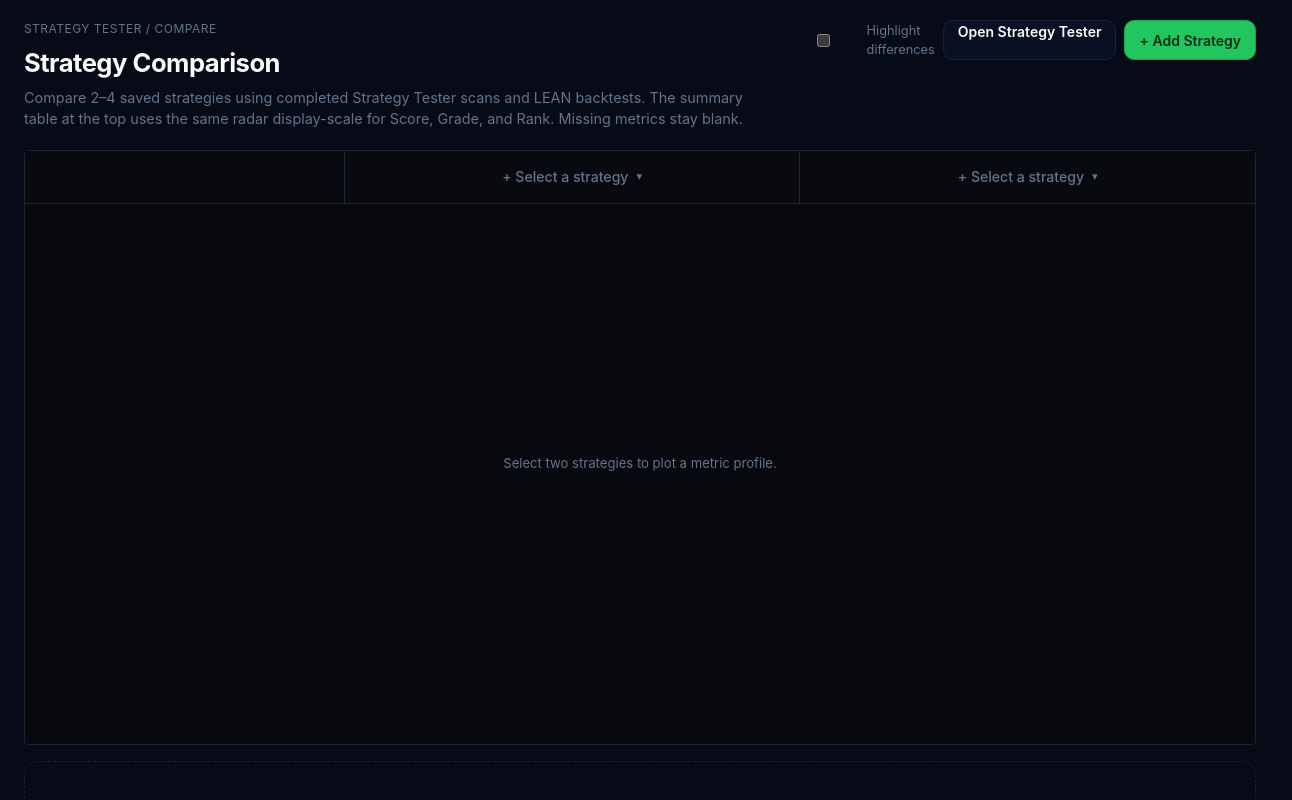
Test: StrategyComparisonPage › highlights differences without declaring a winner
The width and height of the screenshot is (1292, 800).
Click the button with test id "sc-select-cta-0". click: (572, 176)
box: [498, 164, 646, 189]
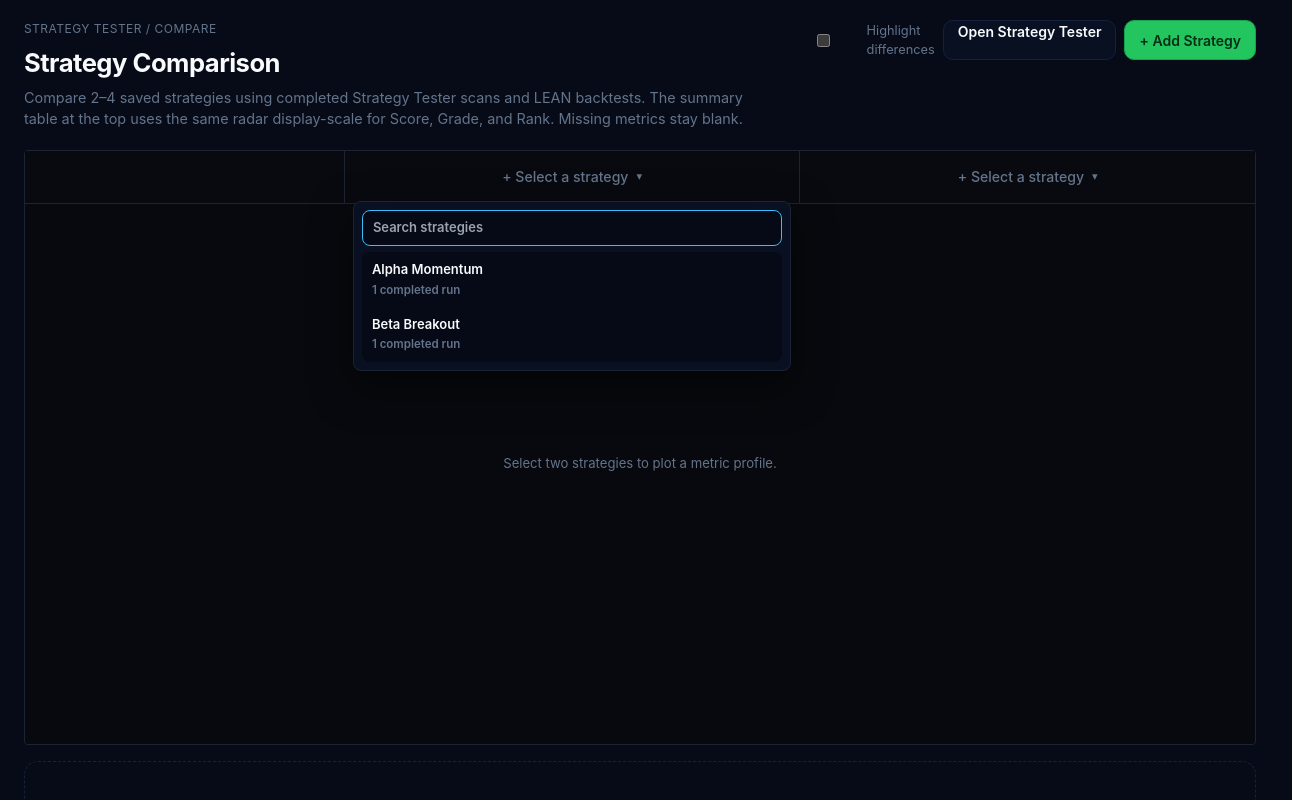
Click the button "Alpha Momentum 1 completed run". click: (427, 269)
box: [362, 252, 782, 307]
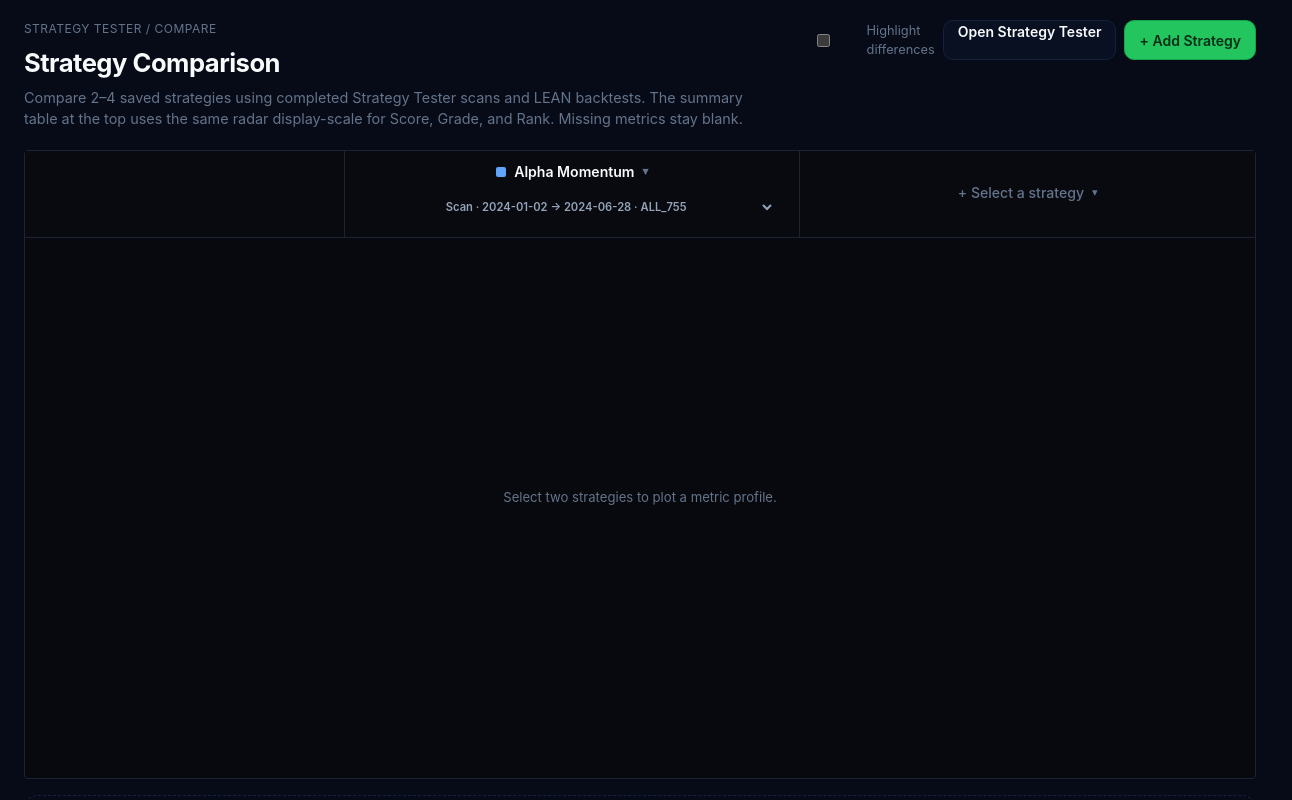
expect the dropdown with test id "sc-run-select-0" is shown: met
Select "Scan · 2024-01-02 → 2024-06-28 · ALL_755" in the dropdown with test id "sc-run-select-0". click: (572, 208)
box: [370, 188, 774, 227]
Click the button with test id "sc-select-cta-1". click: (1028, 193)
box: [954, 180, 1102, 205]
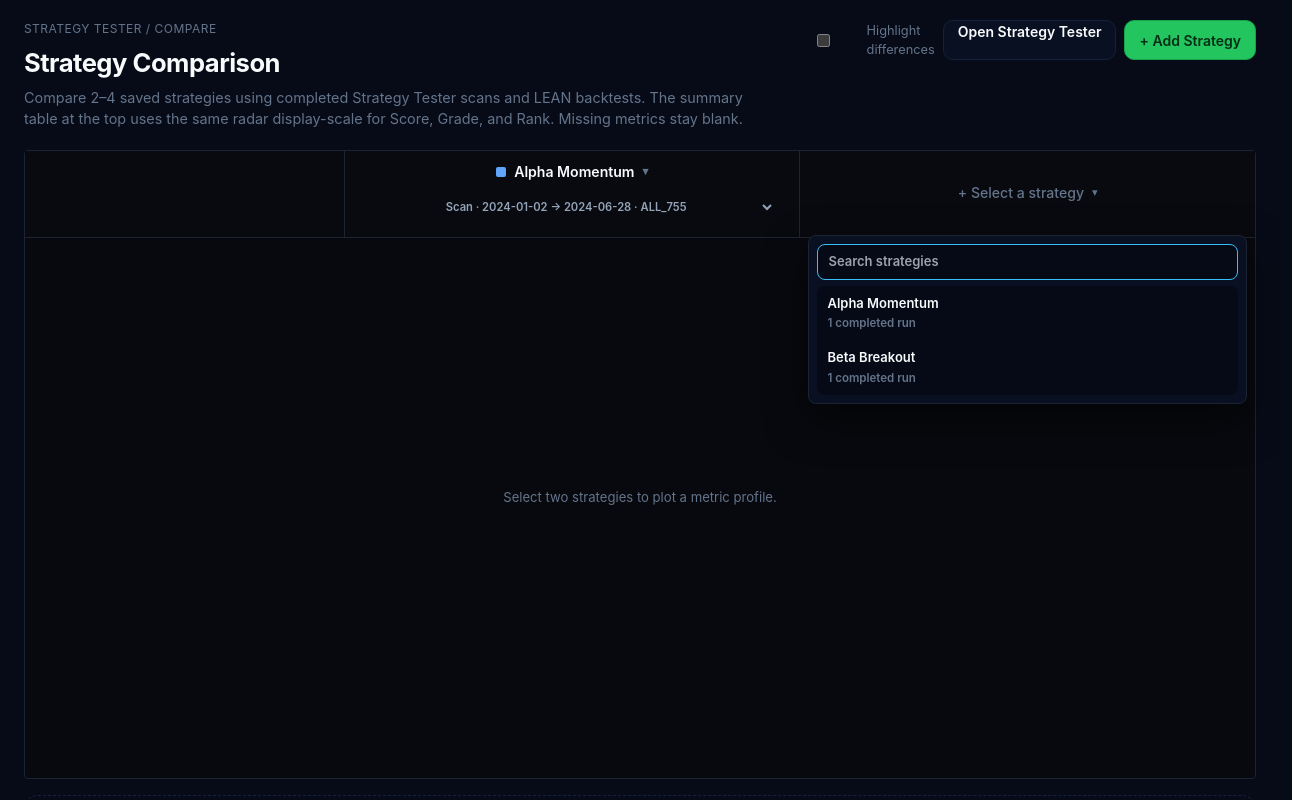
Click the button "Beta Breakout 1 completed run". click: (871, 357)
box: [817, 340, 1238, 395]
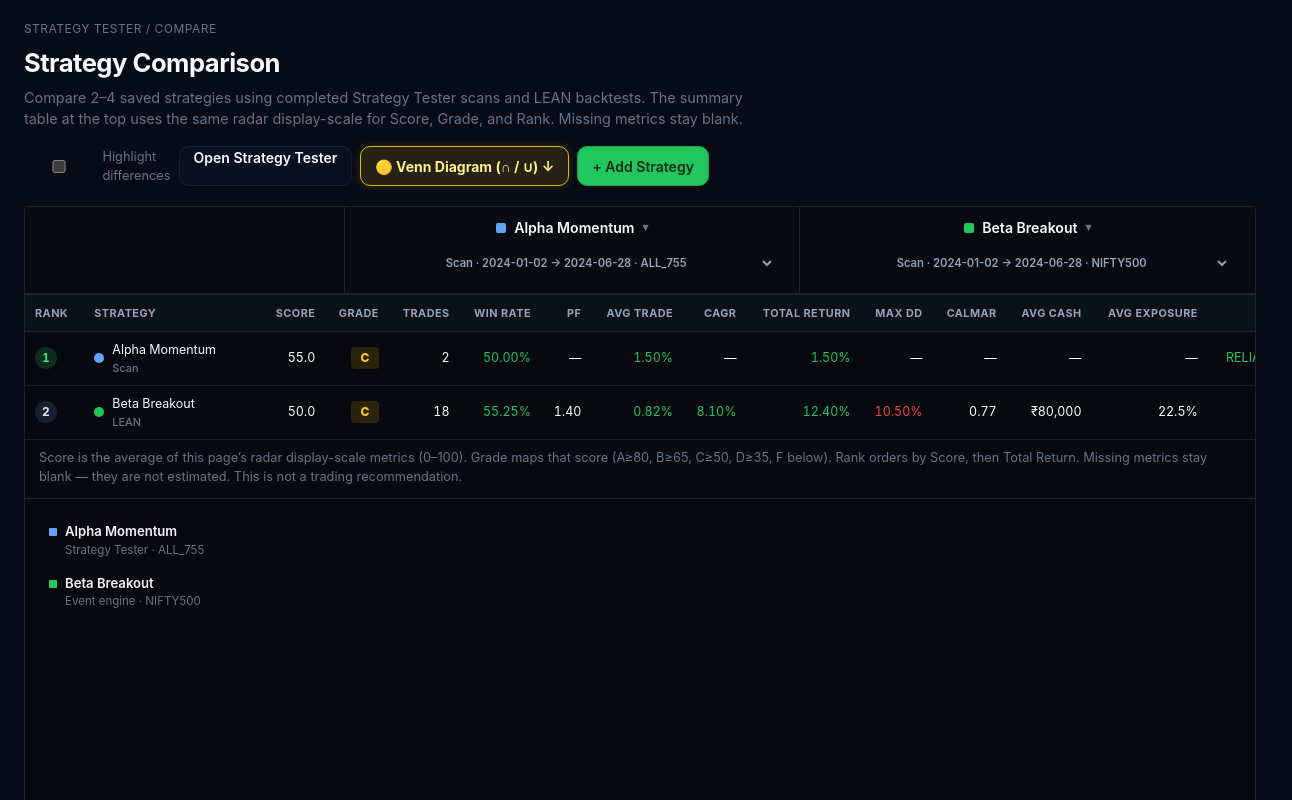
expect the dropdown with test id "sc-run-select-1" is shown: met
Select "Scan · 2024-01-02 → 2024-06-28 · NIFTY500" in the dropdown with test id "sc-run-select-1". click: (1028, 264)
box: [825, 244, 1230, 283]
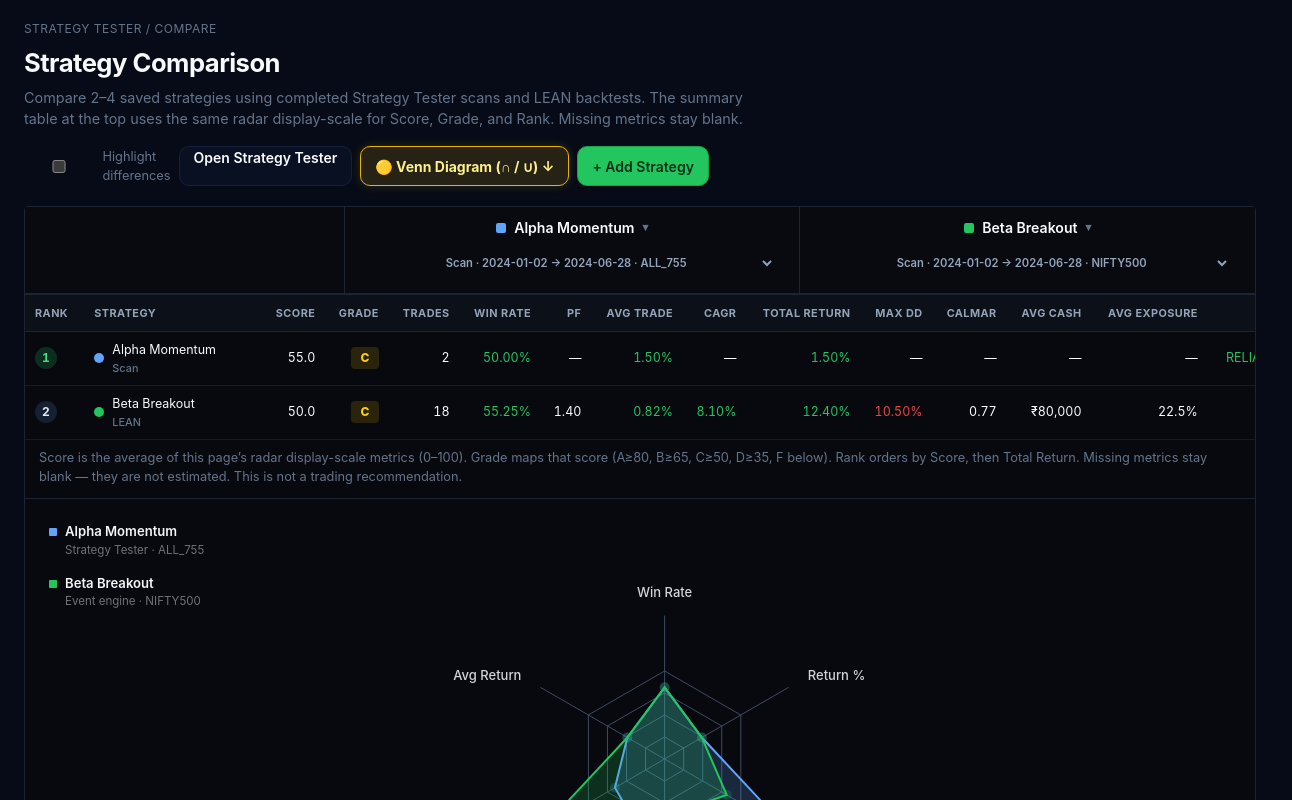
Click the checkbox with test id "sc-highlight-toggle". click: (59, 166)
box: [24, 160, 94, 173]
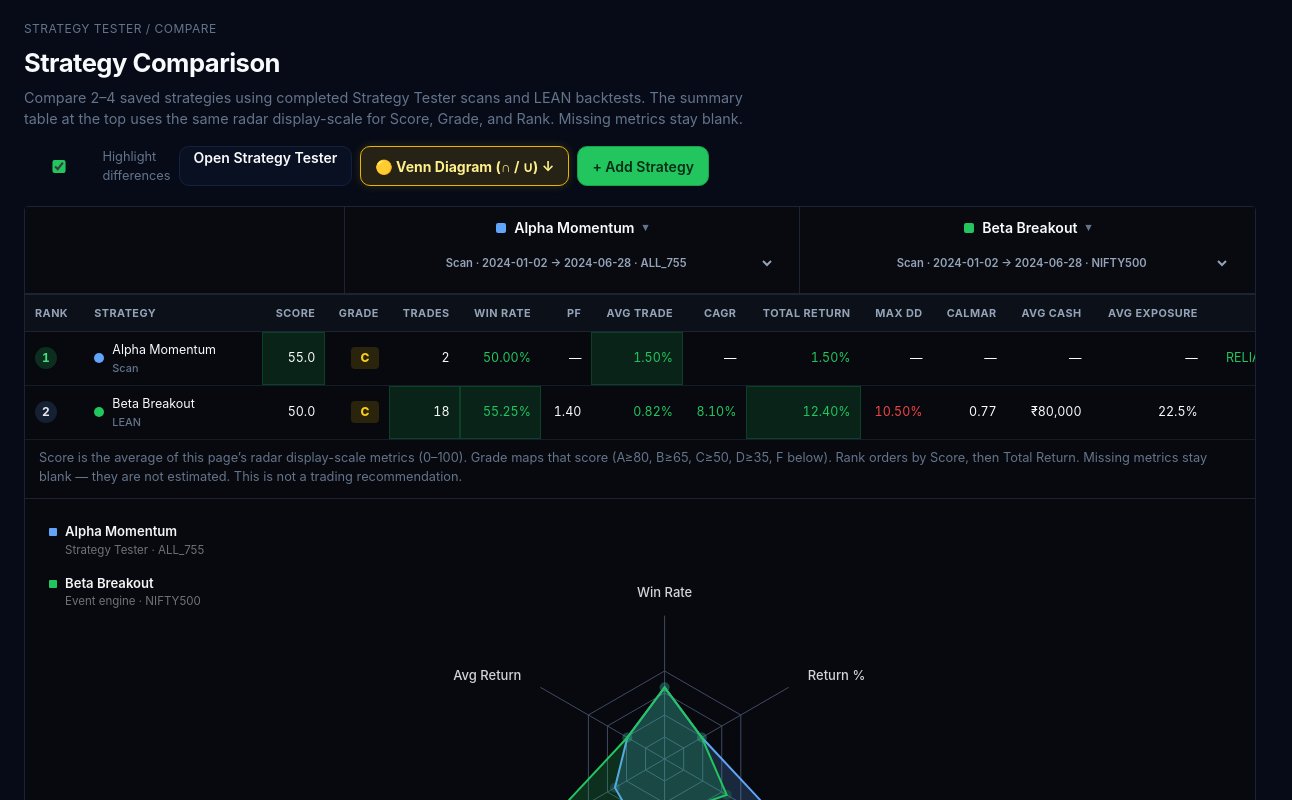
expect the text with test id "sc-leaderboard-note" shows "radar display-scale": met, box [39, 450, 1207, 484]
expect the cell "55.0" is shown: met, box [262, 332, 325, 386]
